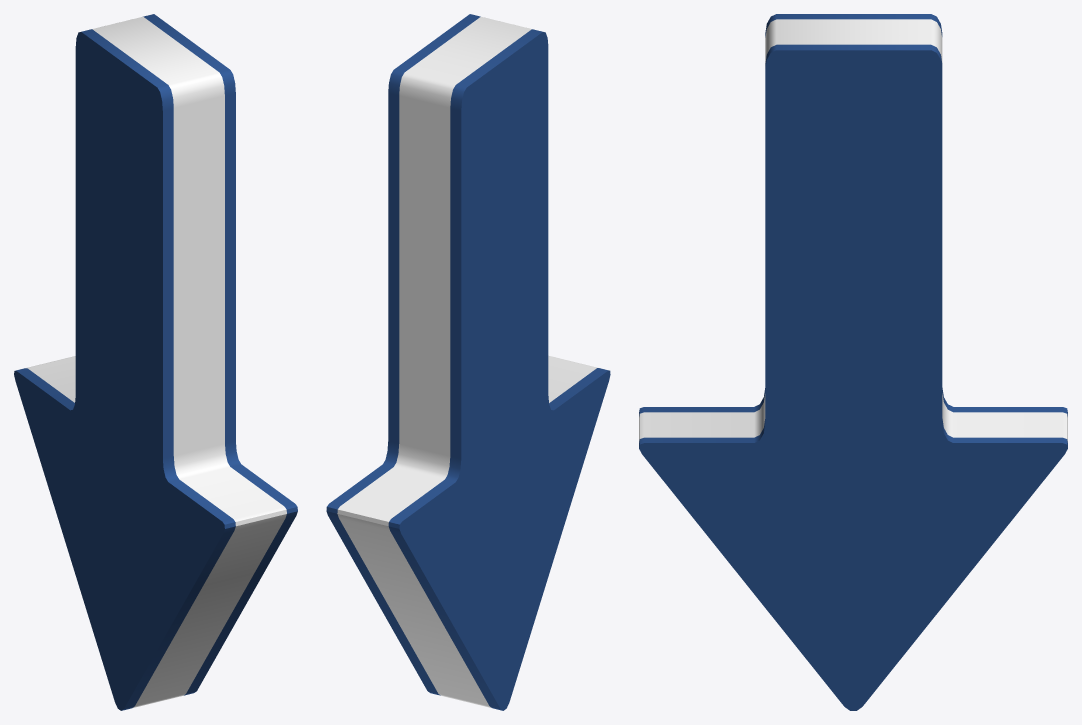
The model's file is Arrow.fbx.
3 views of the same model, side by side, from view 1: azimuth 30°, elevation 25°; view 2: azimuth 150°, elevation 25°; view 3: azimuth 270°, elevation 25° (orthographic).
Parts seen in each view (by area): view 1: Cube; view 2: Cube; view 3: Cube.
Part boxes in pixels (bbox=[...]): Cube: bbox=[14, 14, 297, 710]; Cube: bbox=[326, 14, 610, 710]; Cube: bbox=[639, 14, 1067, 710].
Bounding box in the file's own units: 20 × 170 × 100.
